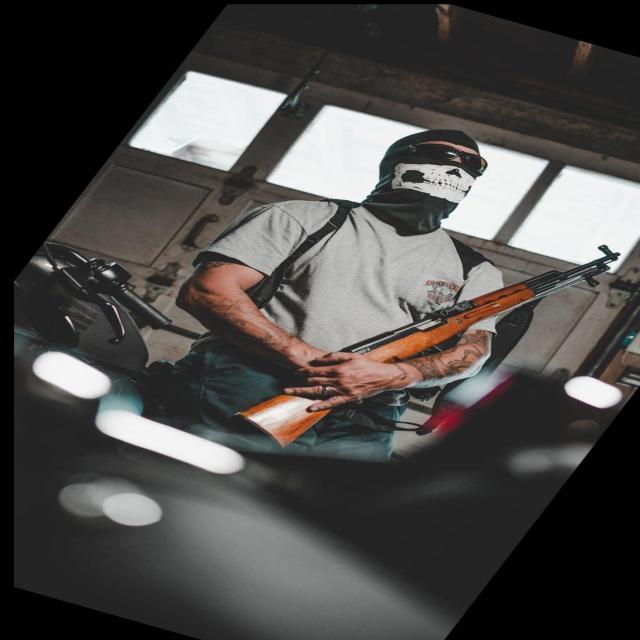Rifle: (232, 245, 624, 450)
